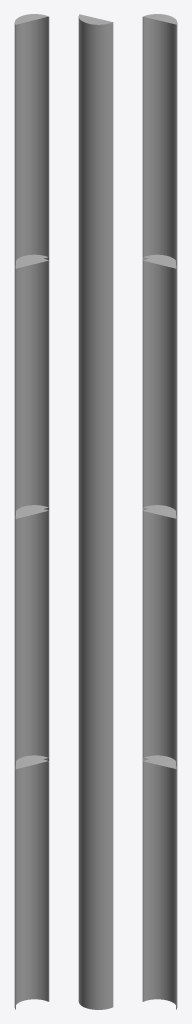
Rendered from halfpipe.obj.
3 renders of one model, left to right at view 1: azimuth 30°, elevation 25°; view 2: azimuth 150°, elevation 25°; view 3: azimuth 330°, elevation 25°, orthographic.
Visible parts, largest first — view 1: Cylinder; view 2: Cylinder; view 3: Cylinder.
Part boxes in pixels (<box>): Cylinder: <box>14,14,49,1009</box>; Cylinder: <box>78,14,113,1009</box>; Cylinder: <box>142,14,177,1009</box>.
Bounding box in the file's own units: 3.27 × 91.95 × 1.3.
Materials: 1 (1 with a texture image).
